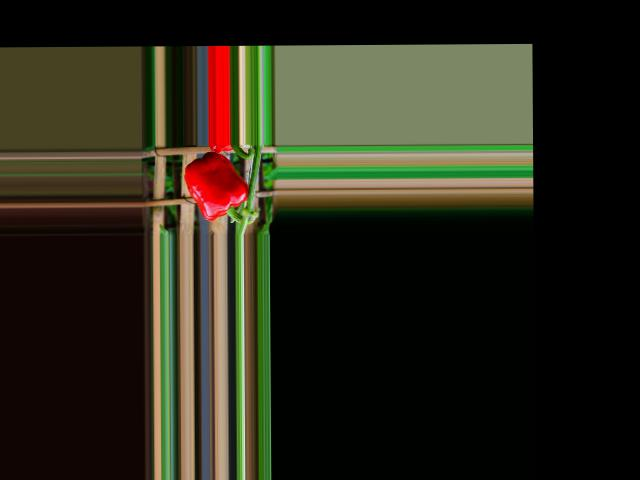bell_pepper: (179, 152, 253, 221)
